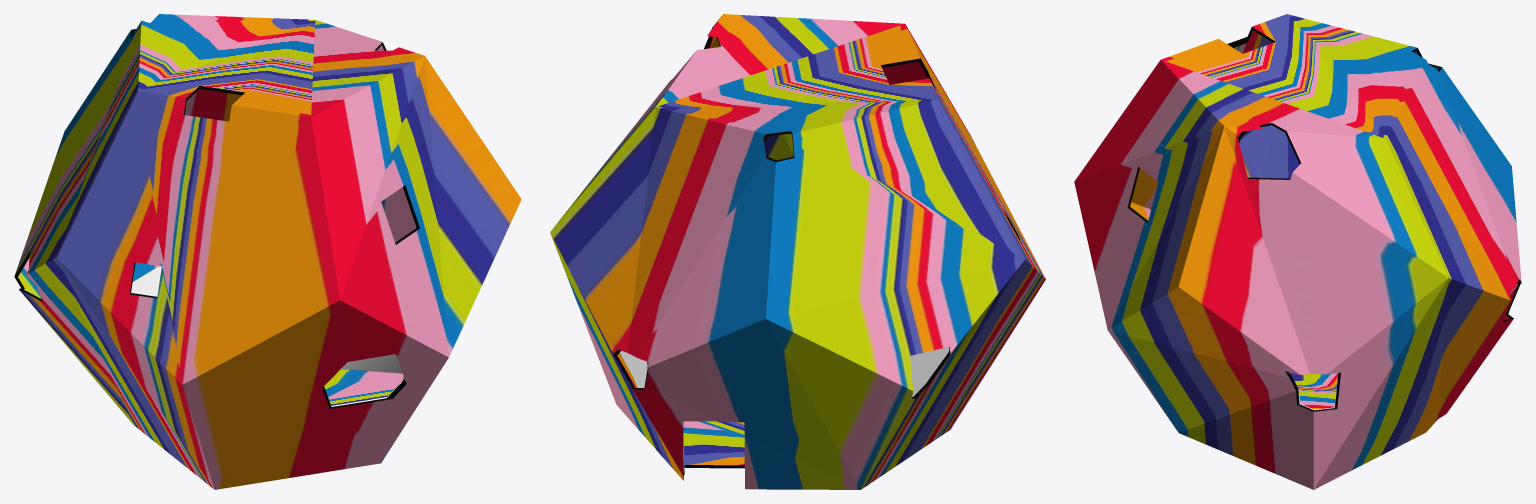
The picture shows the model from 3 angles, left to right: view 1: azimuth 30°, elevation 25°; view 2: azimuth 150°, elevation 25°; view 3: azimuth 270°, elevation 25°; orthographic projection. The views are drawn at different scales.
Parts seen in each view (by area): view 1: Solids, Display wall, Frames; view 2: Solids, Display wall, Frames; view 3: Solids, Frames.
Boxes of the visible parts, x1=… form: Solids: x1=14, y1=14, x2=521, y2=489; Display wall: x1=131, y1=266, x2=404, y2=406; Frames: x1=14, y1=29, x2=419, y2=408; Solids: x1=550, y1=14, x2=1045, y2=489; Display wall: x1=620, y1=347, x2=949, y2=474; Frames: x1=613, y1=27, x2=1021, y2=478; Solids: x1=1074, y1=14, x2=1521, y2=489; Frames: x1=1127, y1=27, x2=1521, y2=411.
Bounding box in the file's own units: 34.32 × 29.92 × 35.81.
Materials: 3 (3 with a texture image).
